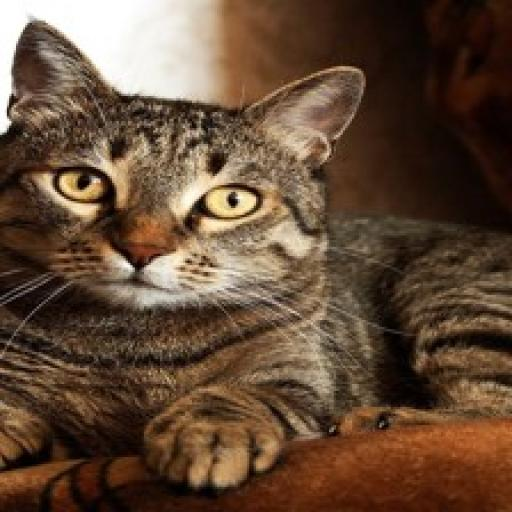cat: (0, 10, 512, 469)
